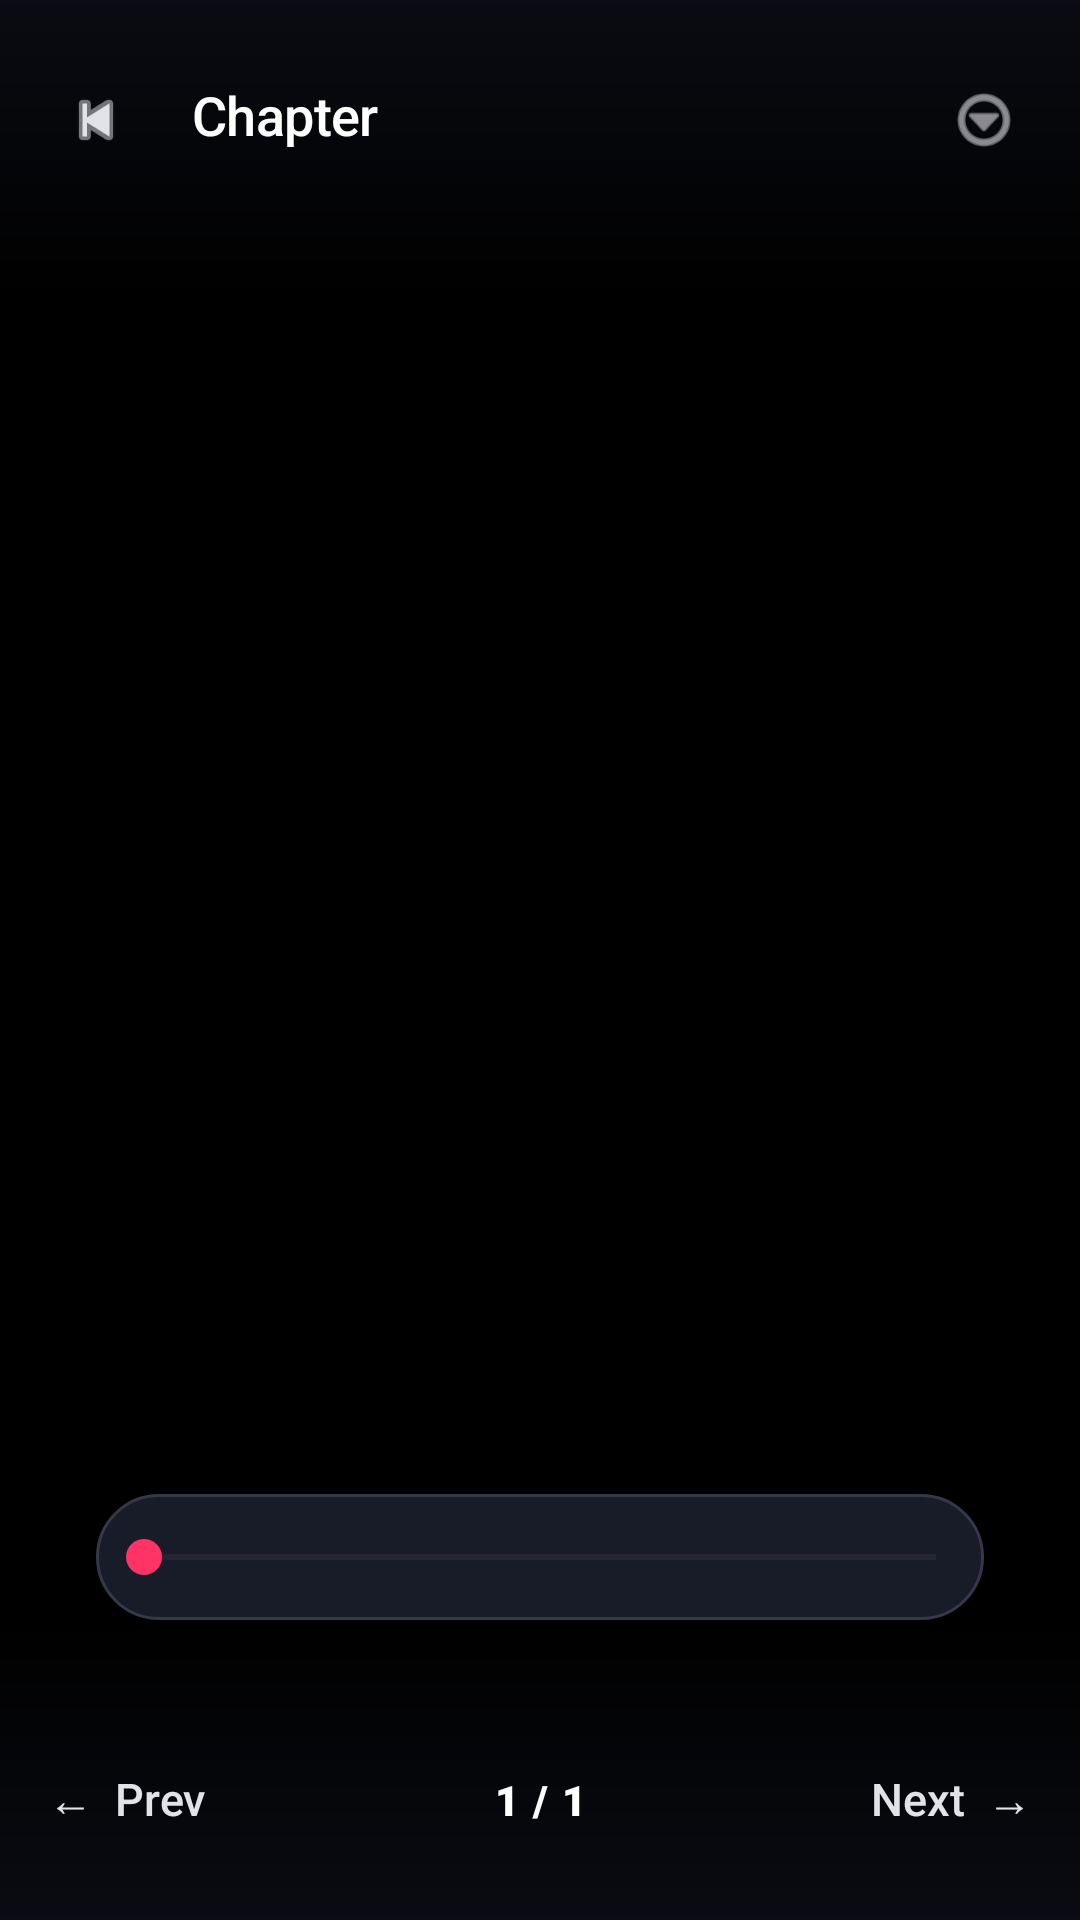

Point at icon controls on the screen. Image size 1080w x 1920h, points as (x=x, y=y).
more: (x=984, y=120)
previous: (x=96, y=120)
